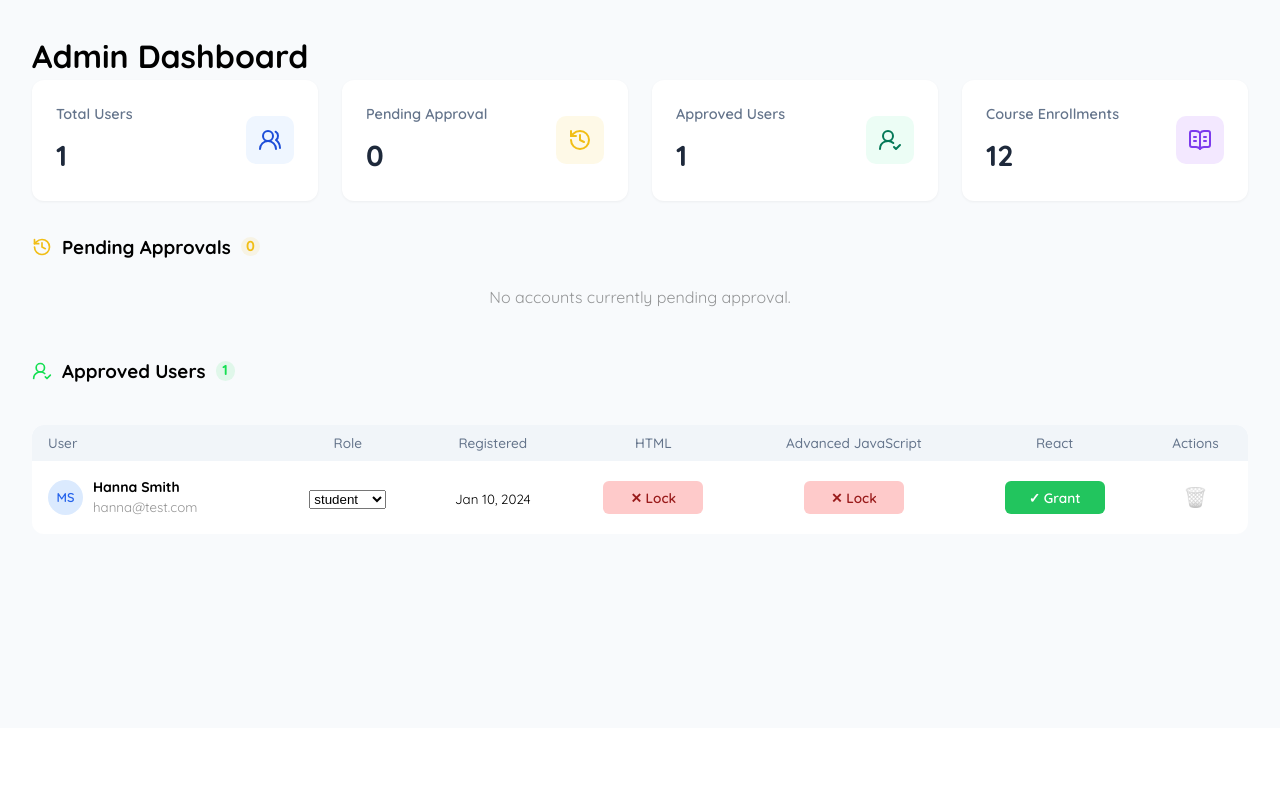
Test case: AdminDashboardScreen Operations › executes handleUpdateUser when role option is updated
The width and height of the screenshot is (1280, 800).
Check: the text "Hanna" is shown, box top-left (93, 478), bottom-right (137, 496)
Select "instructor" in the dropdown with test id "user-role-select-usr_1" at point(348, 499), box top-left (309, 490), bottom-right (386, 509)
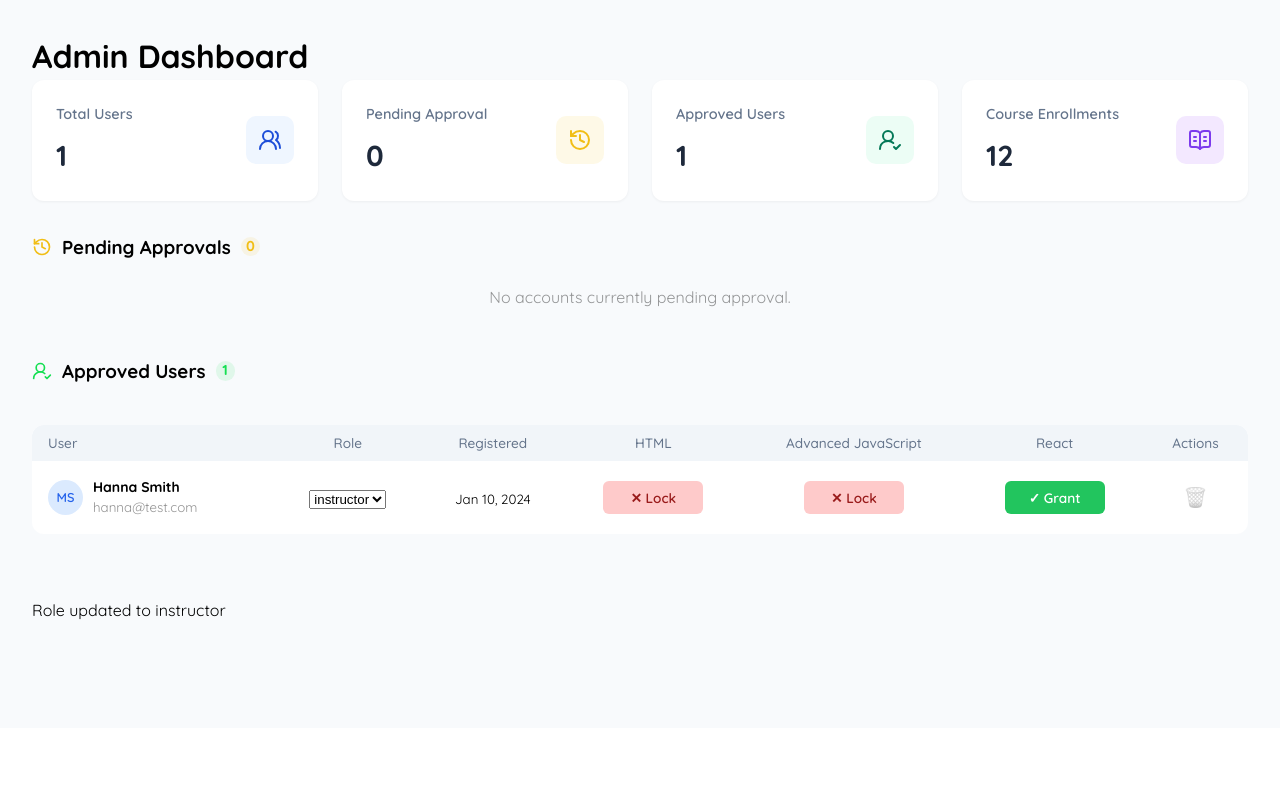
Check: the text "Role updated to instructor" is shown, box top-left (32, 600), bottom-right (226, 620)
